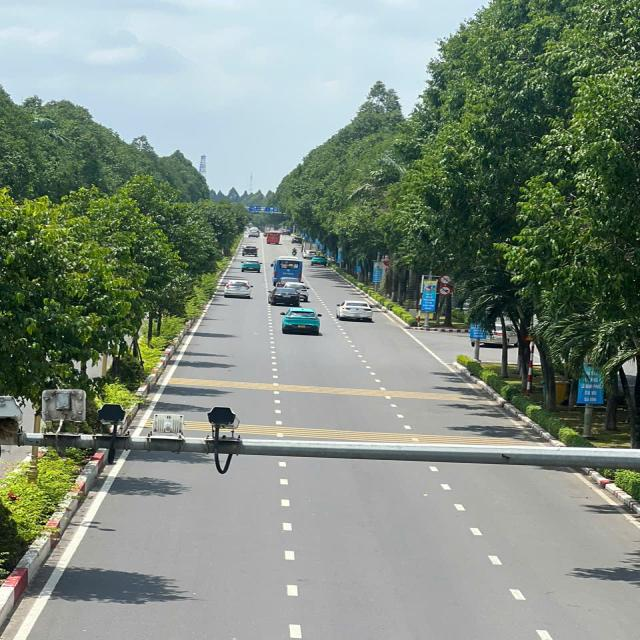car: (279, 304, 326, 339), (336, 297, 377, 324), (273, 256, 307, 285), (222, 276, 256, 300), (266, 282, 300, 306), (237, 256, 263, 276), (308, 252, 330, 268), (242, 240, 262, 257), (266, 228, 283, 246)
